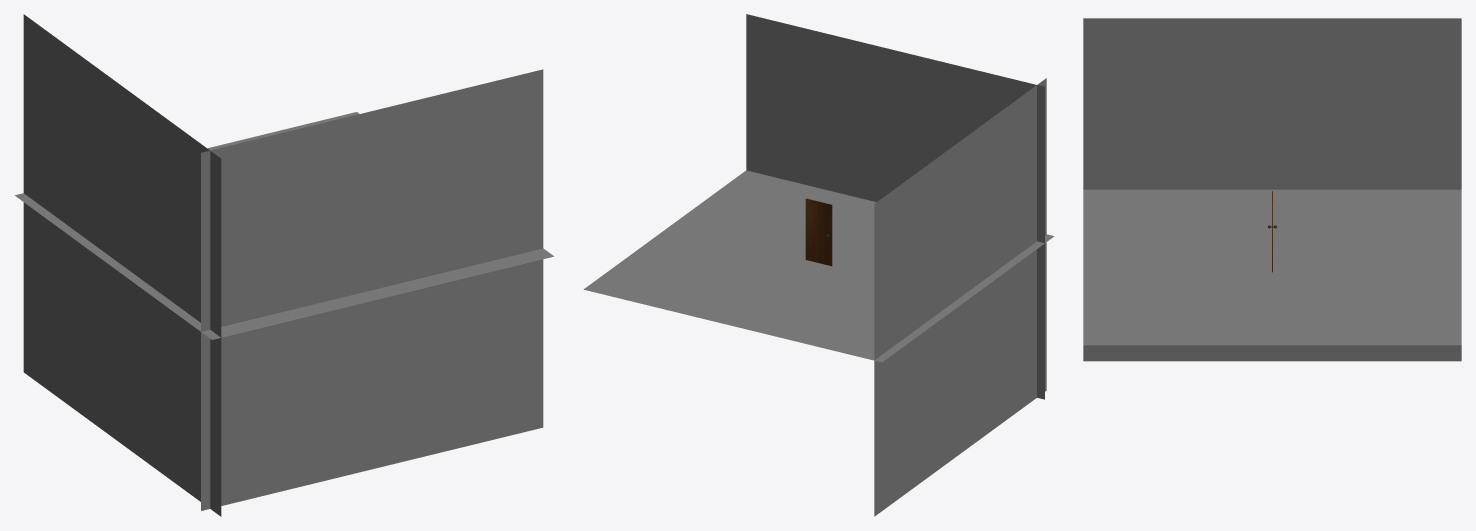
File: Door.obj
3 renders of one model, left to right at view 1: azimuth 30°, elevation 25°; view 2: azimuth 150°, elevation 25°; view 3: azimuth 270°, elevation 25°, orthographic. The views are drawn at different scales.
Visible parts, largest first — view 1: pPlane5, pPlane6, pPlane4; view 2: pPlane6, pPlane5, pPlane4, pCube1; view 3: pPlane6, pPlane4.
Part boxes in pixels (x1,y1,x2,y2): pPlane5: (201,69,543,510); pPlane6: (23,14,221,516); pPlane4: (15,112,553,339); pPlane6: (874,78,1046,516); pPlane5: (746,14,1044,399); pPlane4: (583,170,1054,362); pCube1: (805,198,832,266); pPlane6: (1083,18,1461,361); pPlane4: (1083,189,1461,345).
Size of the model in its own units: 117 by 117 by 117.
3 materials, 1 textured.
